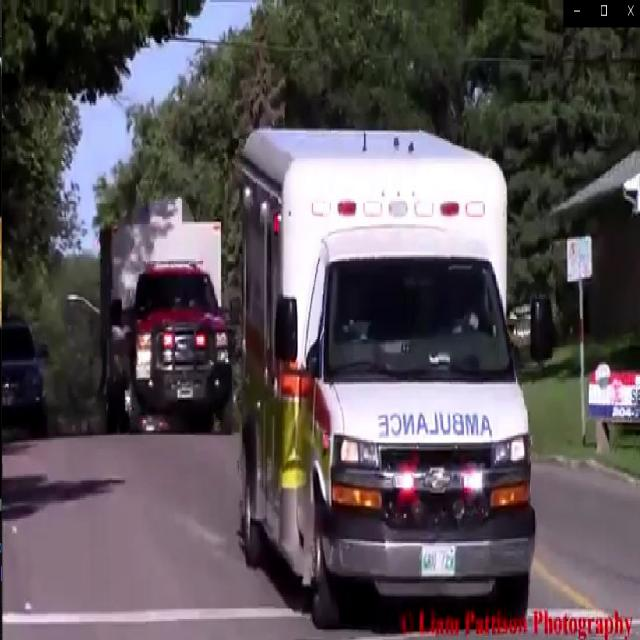emergency: (234, 117, 556, 640), (95, 193, 239, 436)
